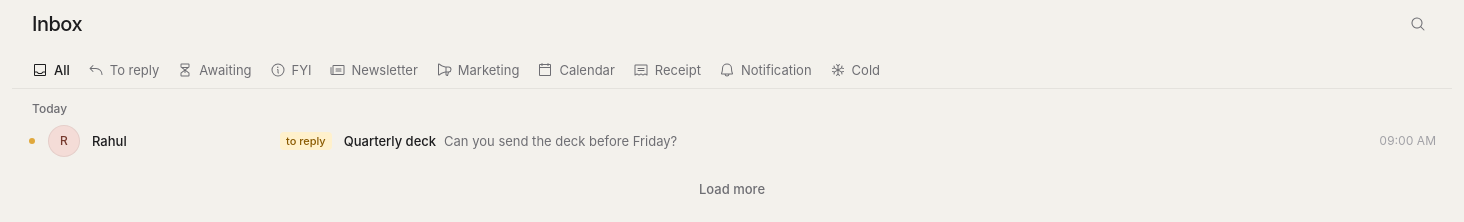
Test: InboxPage › switches tab through the query string and loads more pages
Click the button "Load more" at (732, 189), box [687,173,777,205]
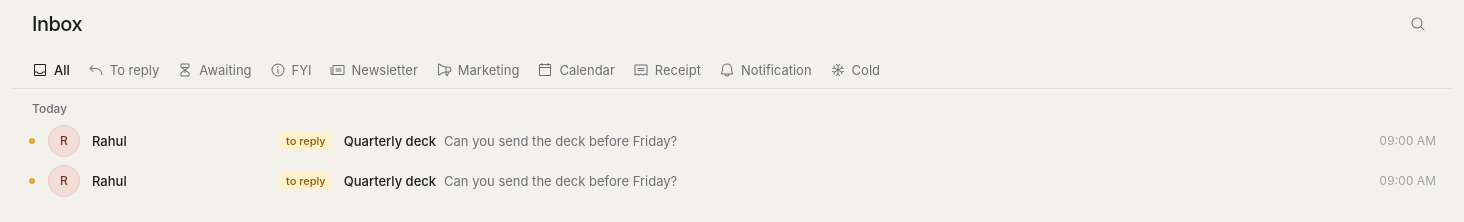
Expected: the text "Quarterly deck" is shown 2 times, [344,133,436,149]; [344,173,436,189]
Press the mouse on the tab "FYI" at (291, 70), box [262,52,320,88]
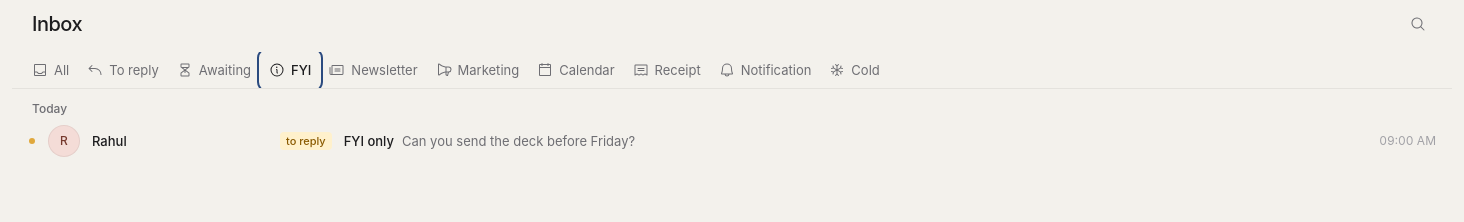
Expected: the button "Load more" is not shown
Expected: the text "FYI only" is shown, [344,133,394,149]
